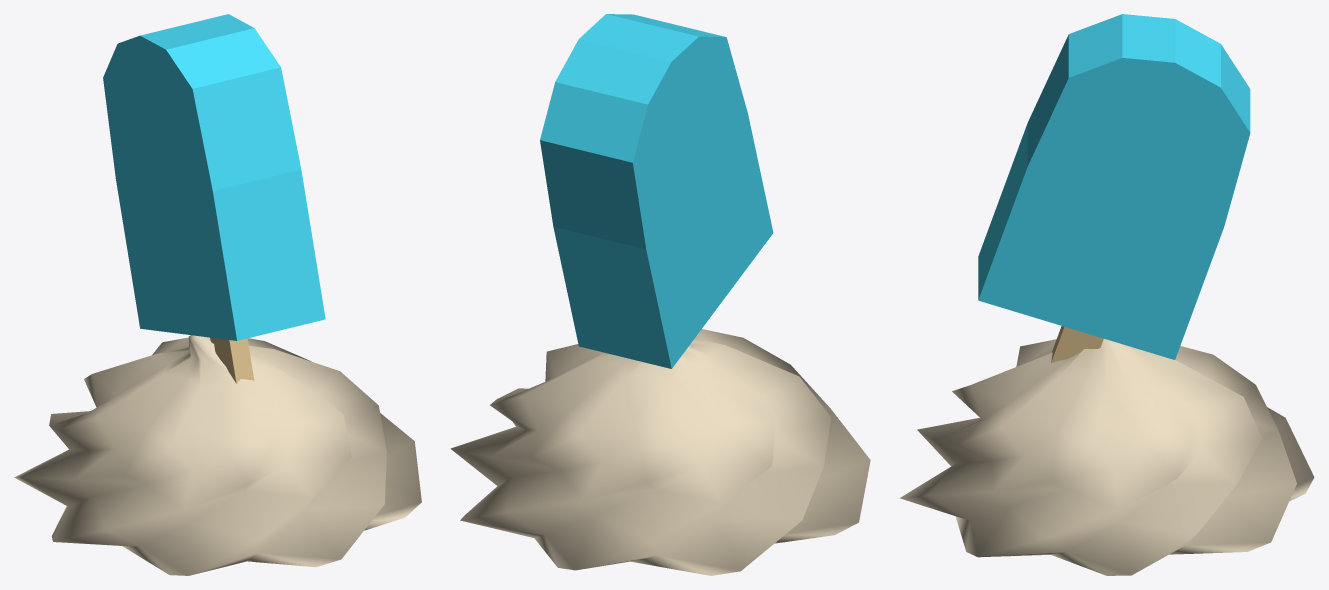
The model's file is popsicle.fbx.
3 renders of one model, left to right at view 1: azimuth 30°, elevation 25°; view 2: azimuth 150°, elevation 25°; view 3: azimuth 270°, elevation 25°, orthographic. The views are drawn at different scales.
Visible parts, largest first — view 1: cream.001, Popsicle, Stick; view 2: cream.001, Popsicle; view 3: cream.001, Popsicle, Stick.
Boxes of the visible parts, x1,y1,x2,y2 form: cream.001: (14,335,421,575); Popsicle: (103,14,325,340); Stick: (210,337,254,383); cream.001: (450,329,870,575); Popsicle: (540,14,773,368); cream.001: (900,339,1314,575); Popsicle: (978,14,1250,359); Stick: (1051,326,1103,363).
Size of the model in its own units: 200 by 243 by 200.
